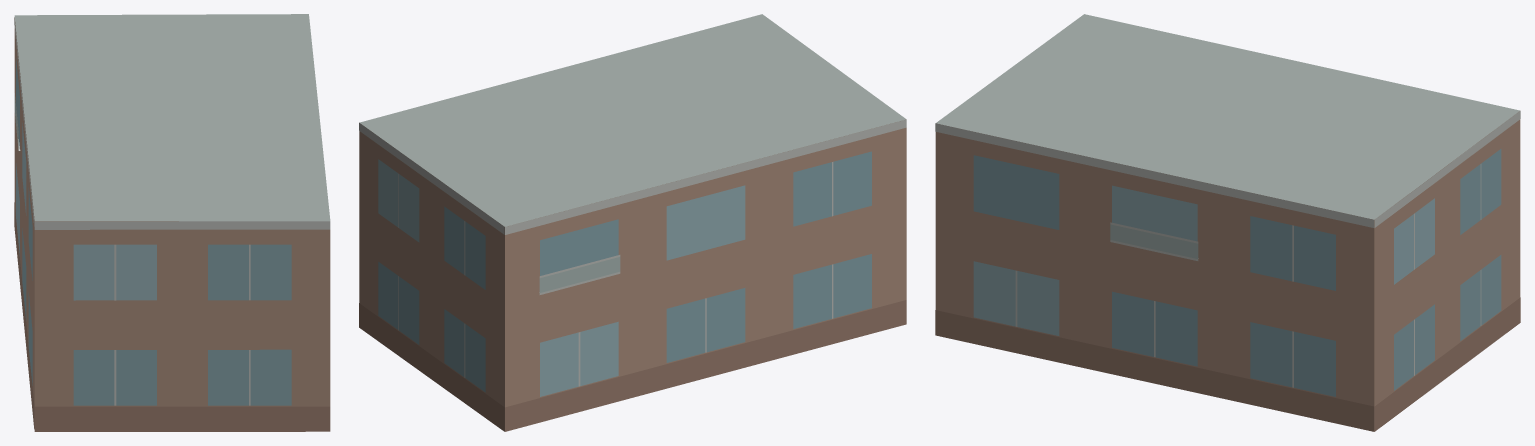
File: survey-upis-32657320.glb
3 renders of one model, left to right at view 1: azimuth 30°, elevation 25°; view 2: azimuth 150°, elevation 25°; view 3: azimuth 270°, elevation 25°, orthographic. The views are drawn at different scales.
Visible parts, largest first — view 1: survey-upis-32657320.tmp; view 2: survey-upis-32657320.tmp; view 3: survey-upis-32657320.tmp.
Part boxes in pixels (x1,y1,x2,y2): survey-upis-32657320.tmp: (14,14,330,431); survey-upis-32657320.tmp: (359,14,906,431); survey-upis-32657320.tmp: (935,14,1520,431).
Size of the model in its own units: 12.7 by 6.1 by 15.25.
